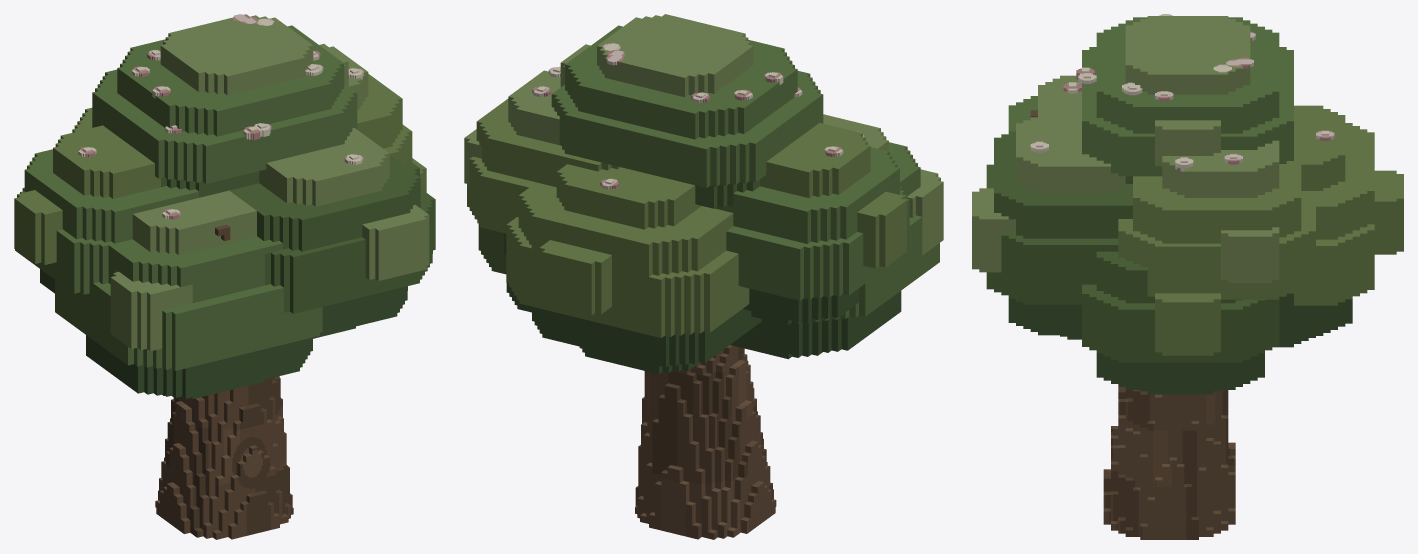
File: apple_ancient_spring.glb
3 renders of one model, left to right at view 1: azimuth 30°, elevation 25°; view 2: azimuth 150°, elevation 25°; view 3: azimuth 270°, elevation 25°, orthographic. The views are drawn at different scales.
Visible parts, largest first — view 1: VoxelVisual; view 2: VoxelVisual; view 3: VoxelVisual.
Boxes of the visible parts, <box> form: VoxelVisual: <box>14,14,435,539</box>; VoxelVisual: <box>464,14,943,539</box>; VoxelVisual: <box>972,14,1403,539</box>.
Size of what is drawn, in the model's own units: 16.25 by 18 by 14.75.
